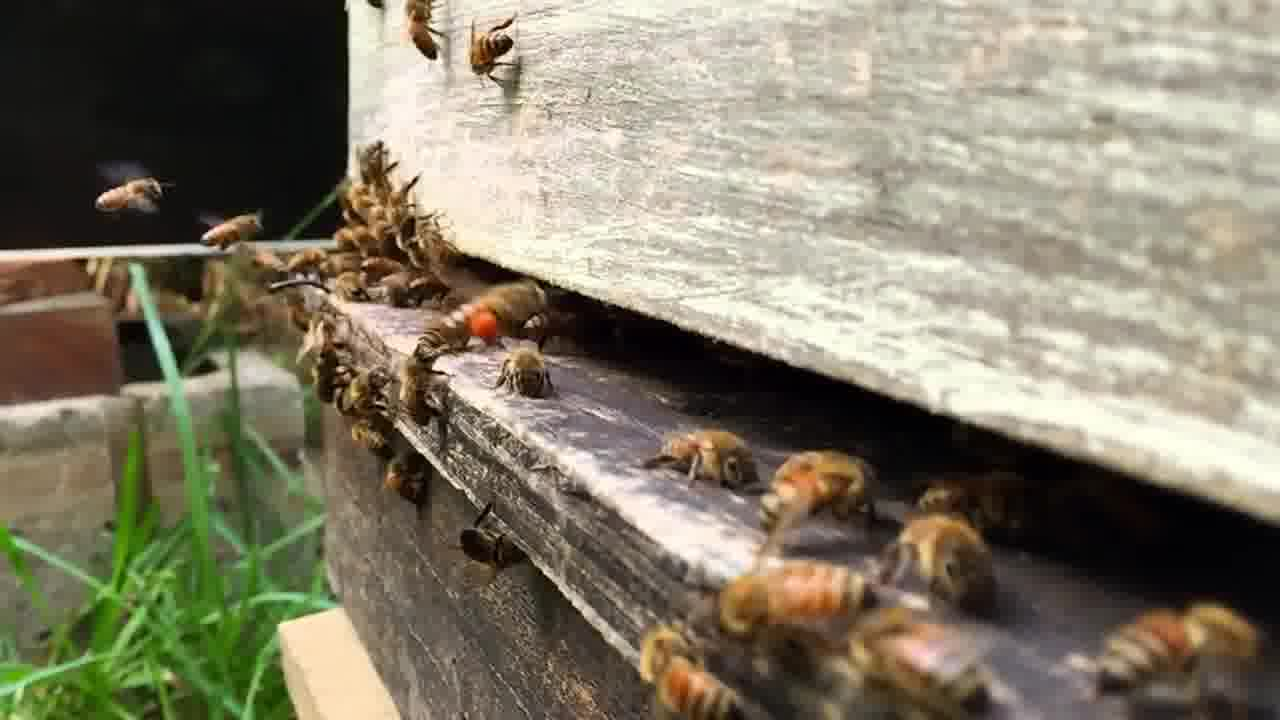pollen: (431, 266, 539, 349)
